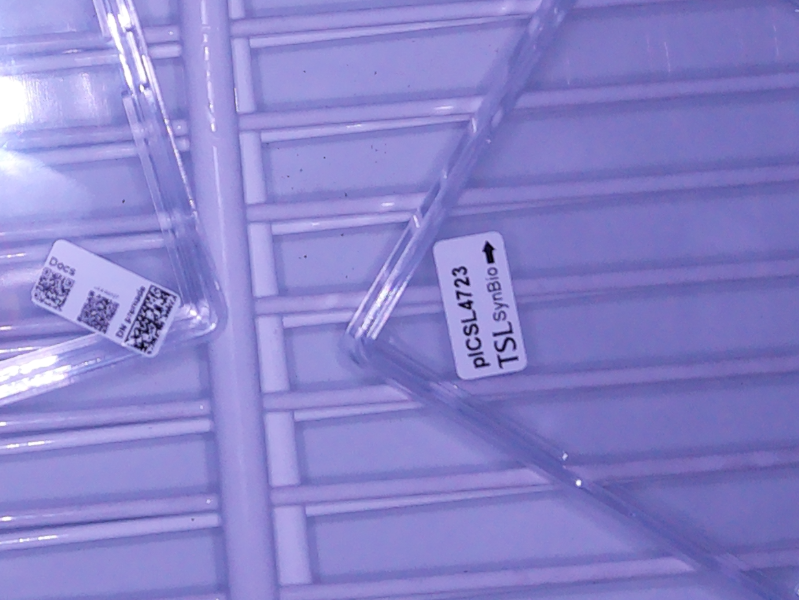plate: (339, 1, 799, 600), (1, 1, 229, 416)
